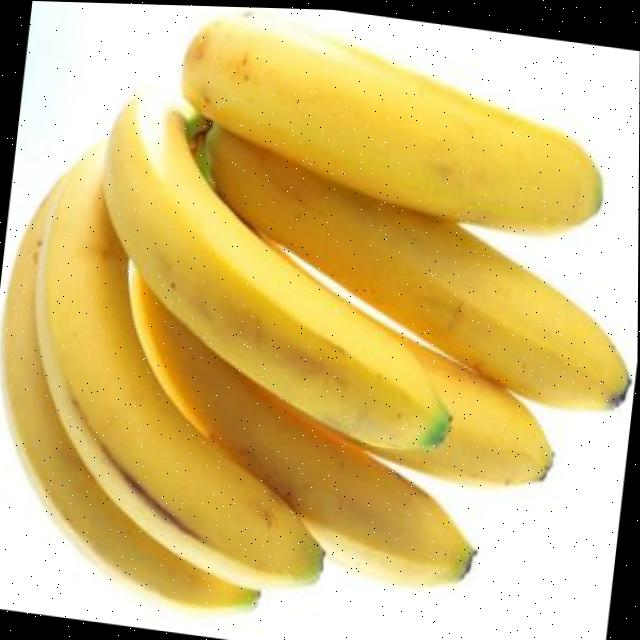Banana: (104, 92, 450, 447), (37, 148, 322, 575), (38, 147, 322, 573), (206, 123, 629, 403), (129, 263, 475, 581), (3, 186, 259, 605), (182, 15, 602, 226), (378, 337, 553, 476)
